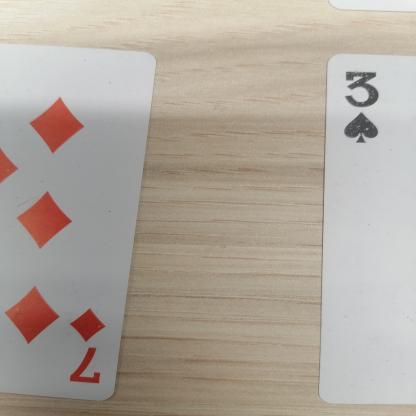3S: (337, 50, 386, 150)
7D: (57, 298, 128, 398)
